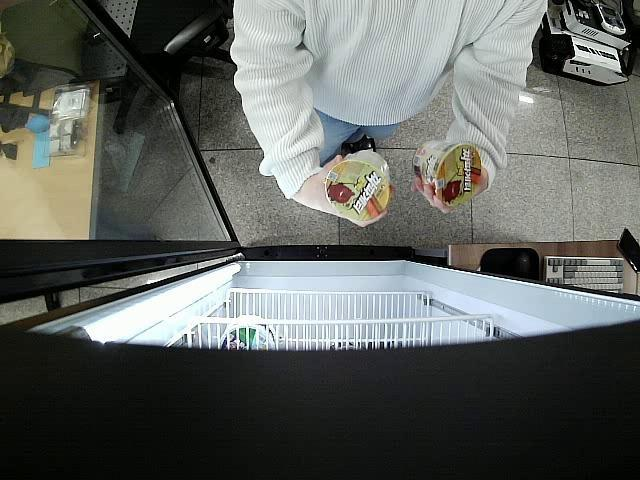04_chapagetti_S: (325, 147, 389, 226), (411, 138, 484, 204)
